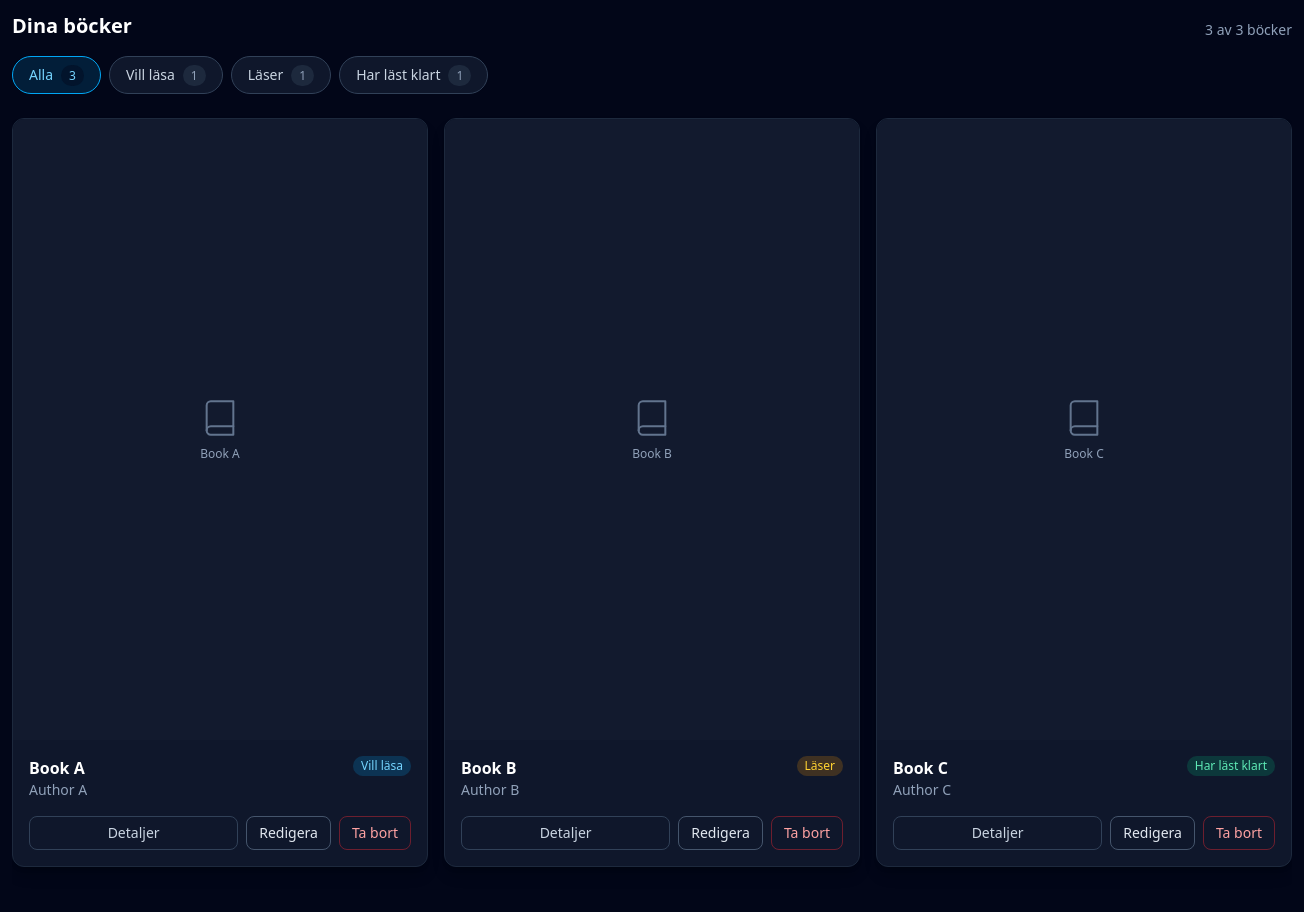
Test: BookList status tabs › filters books when a status tab is selected
Expected: the heading "Book A" is shown, left=29, top=756, right=87, bottom=780
Click the tab "Läser1": (281, 75) left=231, top=56, right=331, bottom=94
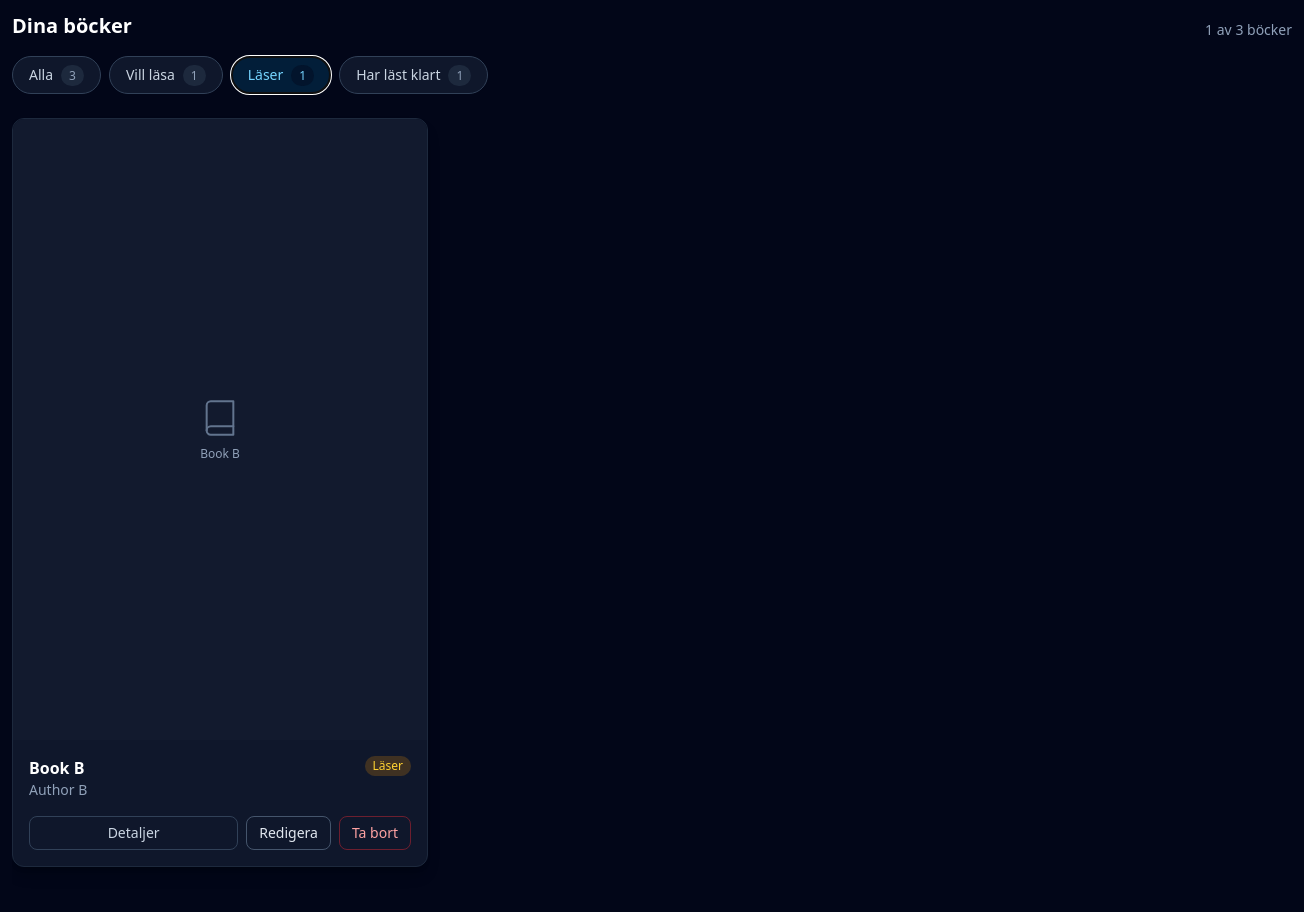
Expected: the heading "Book B" is shown, left=29, top=756, right=87, bottom=780
Result: the button "Book A" is gone
Result: the button "Book C" is gone
